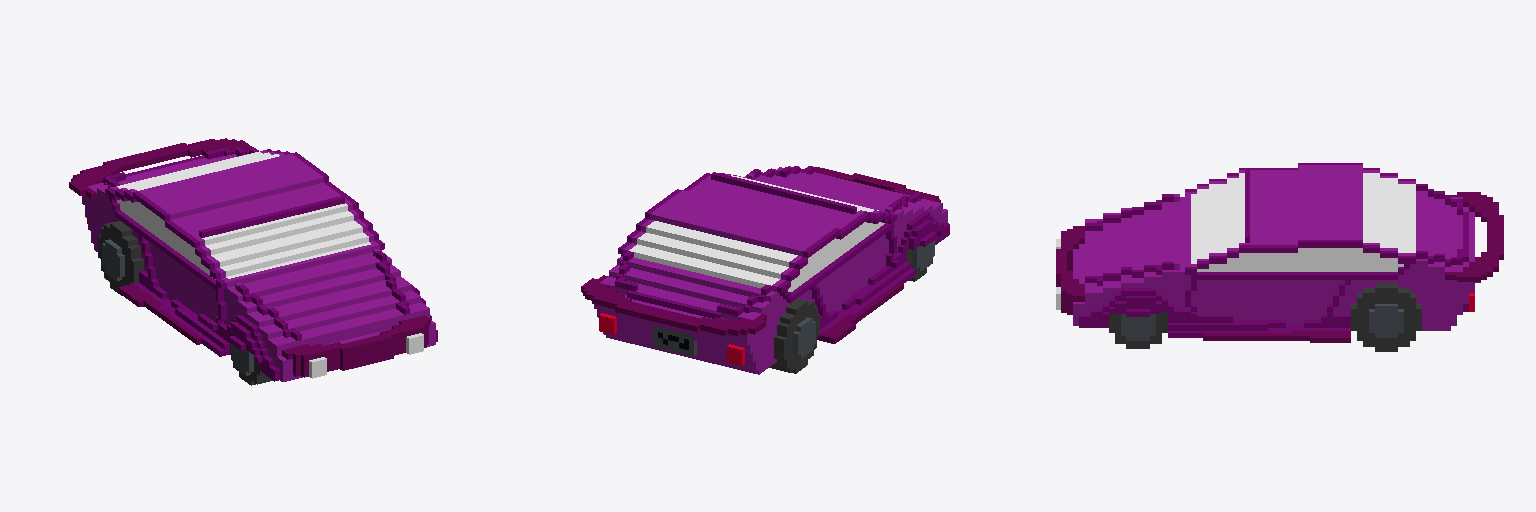
3 views of the same model, side by side, from view 1: azimuth 30°, elevation 25°; view 2: azimuth 150°, elevation 25°; view 3: azimuth 270°, elevation 25° (orthographic).
Parts seen in each view (by area): view 1: SalirCar; view 2: SalirCar; view 3: SalirCar.
Boxes of the visible parts, <box> form: SalirCar: <box>69,138,437,385</box>; SalirCar: <box>581,166,949,374</box>; SalirCar: <box>1056,163,1503,351</box>.
Size of the model in its own units: 40 by 20 by 76.
Materials: 1 (1 with a texture image).